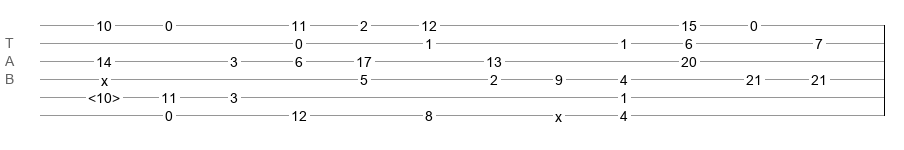0: (165, 108, 173, 118), (165, 18, 173, 28), (295, 36, 303, 46), (750, 18, 758, 28)
1: (425, 36, 433, 46), (620, 36, 628, 46), (620, 90, 628, 100)
10: (96, 18, 112, 28)
11: (161, 90, 177, 100), (291, 18, 307, 28)
12: (291, 108, 307, 118), (421, 18, 437, 28)
13: (486, 54, 502, 64)
14: (96, 54, 112, 64)
15: (681, 18, 697, 28)
17: (356, 54, 372, 64)
2: (360, 18, 368, 28), (490, 72, 498, 82)
20: (681, 54, 697, 64)
21: (746, 72, 762, 82), (811, 72, 827, 82)
3: (230, 54, 238, 64), (230, 90, 238, 100)
4: (620, 72, 628, 82), (620, 108, 628, 118)
5: (360, 72, 368, 82)
6: (295, 54, 303, 64), (685, 36, 693, 46)
7: (815, 36, 823, 46)
8: (425, 108, 433, 118)
9: (555, 72, 563, 82)
harmonic: (88, 90, 120, 100)
x: (101, 73, 108, 81), (555, 109, 562, 117)
